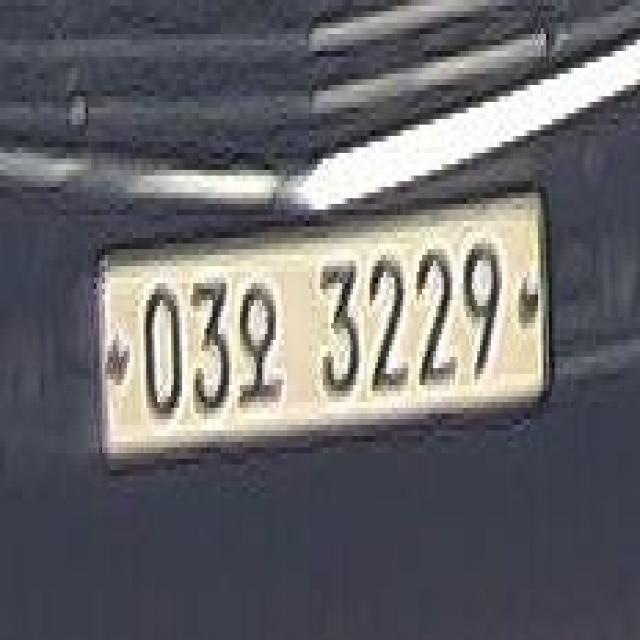illegal_plate: (91, 182, 550, 476)
